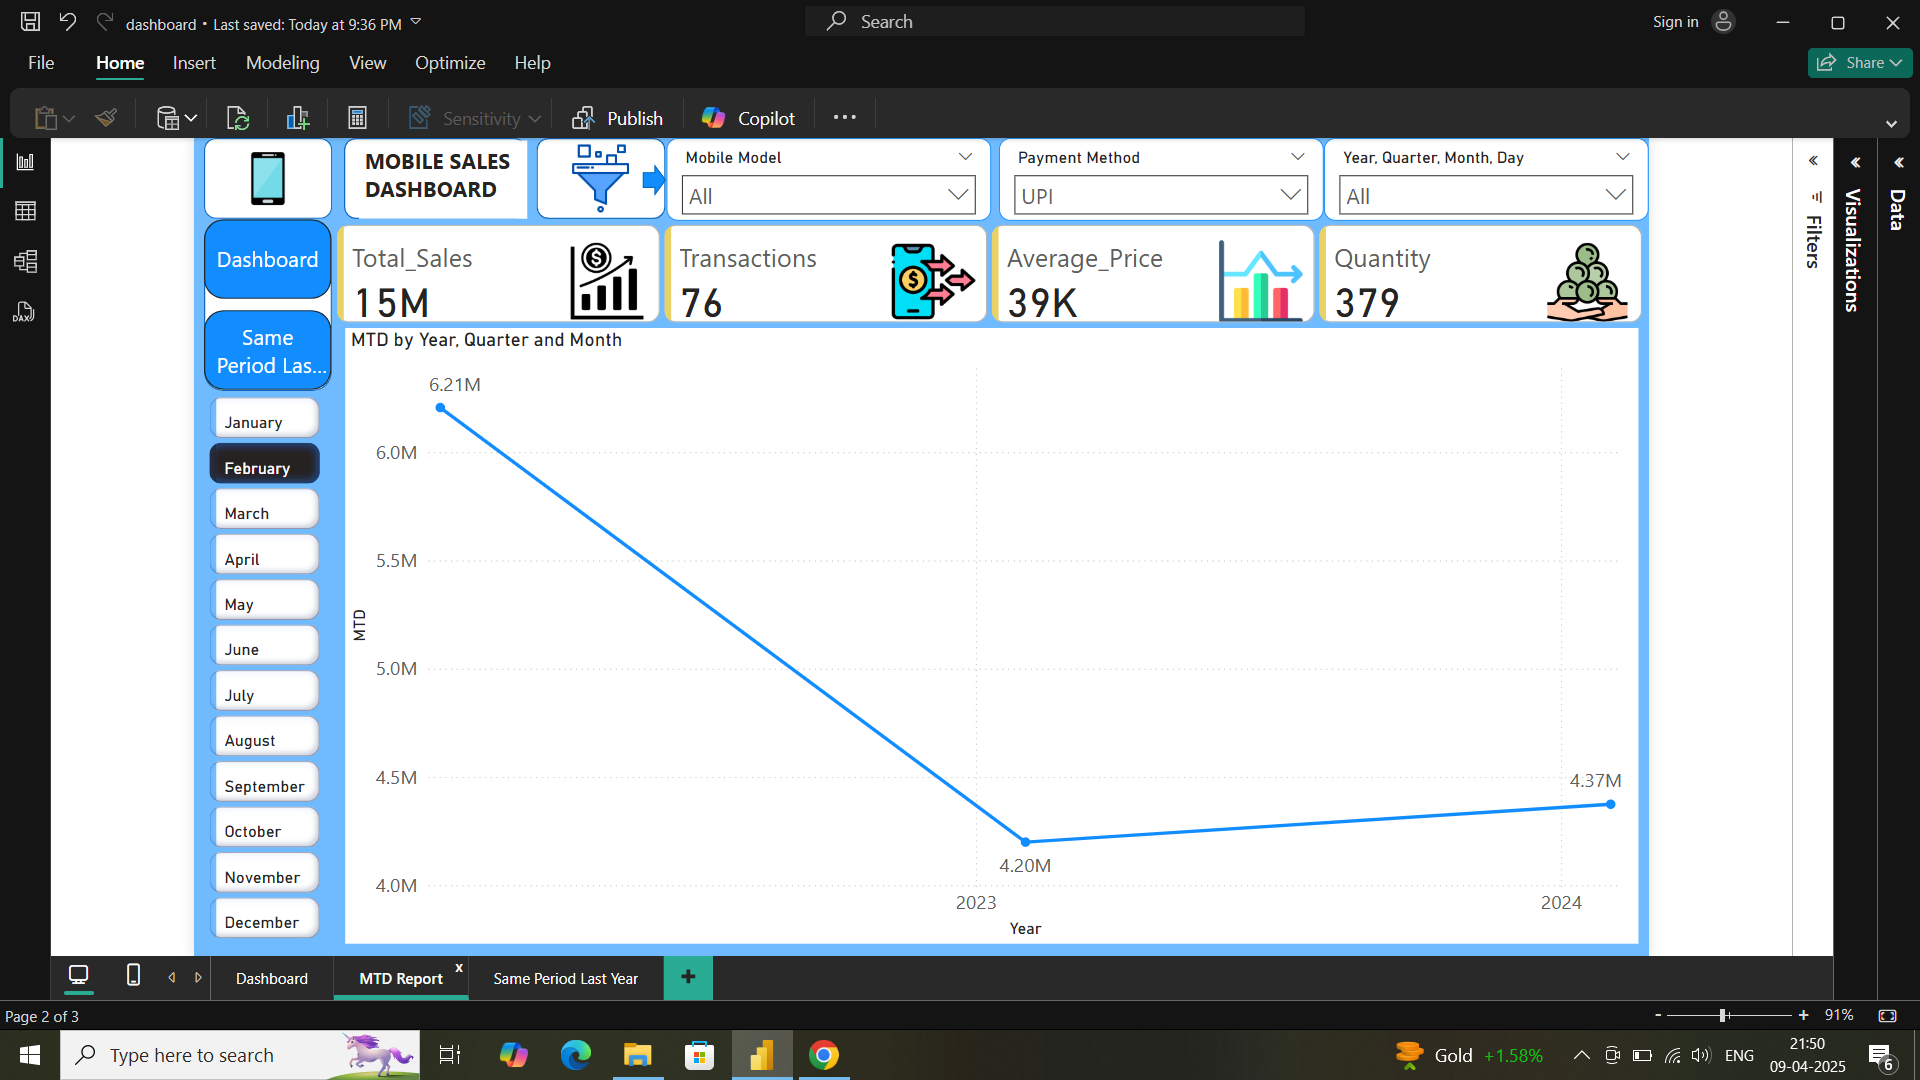

The page's visual inventory and layout, read from the dashboard file:
{"tool":"powerbi","page":{"name":"MTD Report","canvas":[1280,720],"ordinal":1},"visuals":[{"type":"shape","box":[8.6,0,112.9,71.2],"z":0},{"type":"image","box":[19.6,0,90.8,71.2],"z":1000},{"type":"cardVisual","fields":{"Data":["Sales_Data.Total_Sales","Sales_Data.Transactions","Sales_Data.Average_Price","Sales_Data.Quantity"]},"box":[121,71.4,1158.4,96.8],"z":2000},{"type":"slicer","fields":{"Values":["Sales_Data.Mobile Model"]},"box":[415.2,0,285.7,72.6],"z":3000},{"type":"slicer","fields":{"Values":["Custom_Calendar.Date.Variation.Date Hierarchy.Year","Custom_Calendar.Date.Variation.Date Hierarchy.Quarter","Custom_Calendar.Date.Variation.Date Hierarchy.Month","Custom_Calendar.Date.Variation.Date Hierarchy.Day"]},"box":[993.8,0,285.7,72.6],"z":4000},{"type":"slicer","fields":{"Values":["Sales_Data.Payment Method"]},"box":[708.1,0,285.7,72.6],"z":5000},{"type":"shape","box":[301.4,0,113.8,71.4],"z":6000},{"type":"image","box":[292.9,0,130.7,71.4],"z":7000},{"type":"shape","box":[394.6,23,20.6,27.8],"z":8000},{"type":"shape","box":[131.9,0,161,71.4],"z":9000},{"type":"textbox","box":[145.3,2.4,147.7,69],"z":10000},{"type":"lineChart","fields":{"Y":["Sales_Data.MTD"],"Category":["Custom_Calendar.Date.Variation.Date Hierarchy.Year","Custom_Calendar.Date.Variation.Date Hierarchy.Quarter","Custom_Calendar.Date.Variation.Date Hierarchy.Month","Custom_Calendar.Date.Variation.Date Hierarchy.Day"]},"box":[132.5,167.5,1137.5,541.2],"z":11000},{"type":"advancedSlicerVisual","fields":{"Values":["Custom_Calendar.Date.Variation.Date Hierarchy.Month"]},"box":[8.6,223.1,108,496.9],"z":12000},{"type":"shape","box":[8.8,72.5,112.5,150],"z":13000},{"type":"pageNavigator","box":[8.8,71.2,112.5,151.2],"z":14000}]}

Visuals, with their boxes on the page's 1280x720 design canvas (x1, y1, x2, y2). These are canvas units, not pixel positions in the 1920x1080 screenshot, which may show the page scaled, cropped or inside an application window:
shape: 9/0/122/71
image: 20/0/110/71
cardVisual - Sales_Data.Total_Sales x Sales_Data.Transactions: 121/71/1279/168
slicer - Sales_Data.Mobile Model: 415/0/701/73
slicer - Custom_Calendar.Date.Variation.Date Hierarchy.Year x Custom_Calendar.Date.Variation.Date Hierarchy.Quarter: 994/0/1280/73
slicer - Sales_Data.Payment Method: 708/0/994/73
shape: 301/0/415/71
image: 293/0/424/71
shape: 395/23/415/51
shape: 132/0/293/71
textbox: 145/2/293/71
lineChart - Sales_Data.MTD x Custom_Calendar.Date.Variation.Date Hierarchy.Year: 132/168/1270/709
advancedSlicerVisual - Custom_Calendar.Date.Variation.Date Hierarchy.Month: 9/223/117/720
shape: 9/72/121/222
pageNavigator: 9/71/121/222
